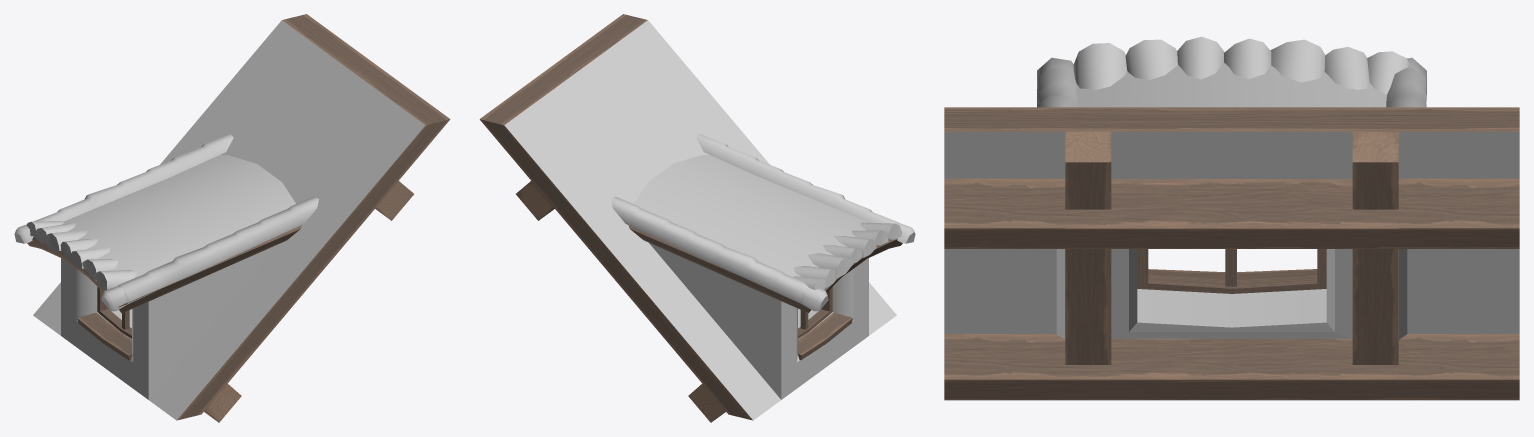
The model's file is SM_HouseRoof_Window.fbx.
3 views of the same model, side by side, from view 1: azimuth 30°, elevation 25°; view 2: azimuth 150°, elevation 25°; view 3: azimuth 270°, elevation 25° (orthographic). The views are drawn at different scales.
Parts seen in each view (by area): view 1: SM_HouseRoof_Window_LOD0; view 2: SM_HouseRoof_Window_LOD0; view 3: SM_HouseRoof_Window_LOD0.
Boxes of the visible parts, x1,y1,x2,y2 form: SM_HouseRoof_Window_LOD0: (14,14,450,422); SM_HouseRoof_Window_LOD0: (479,14,915,422); SM_HouseRoof_Window_LOD0: (944,36,1519,400).
Size of what is drawn, in the model's own units: 6.59 by 4.74 by 5.
